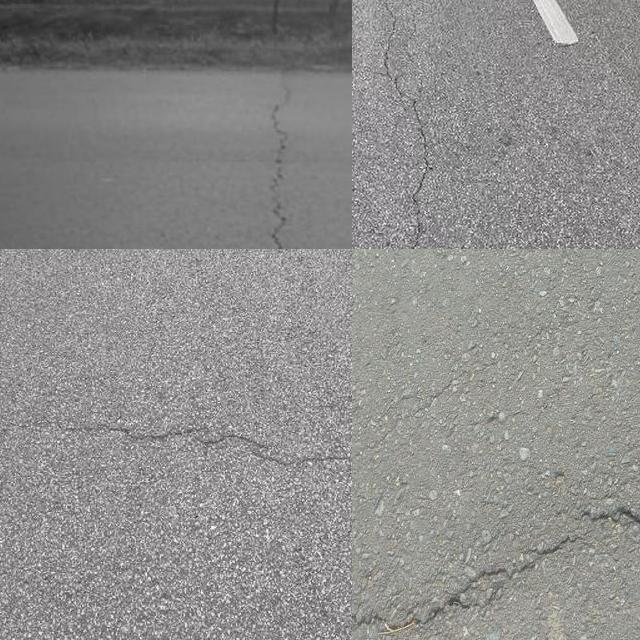Melintang: (352, 488, 640, 640), (0, 409, 352, 495)
Memanjang: (367, 0, 436, 249), (265, 71, 299, 249)
